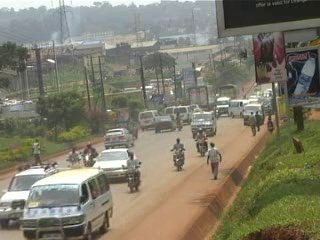Car: (0, 159, 61, 231), (92, 146, 138, 181), (99, 125, 137, 149), (151, 115, 177, 134), (212, 97, 231, 116)
Motorcycle: (118, 152, 143, 192), (166, 137, 185, 173), (191, 129, 211, 157), (78, 143, 100, 167), (66, 146, 82, 168), (171, 114, 184, 131), (211, 104, 221, 120)
